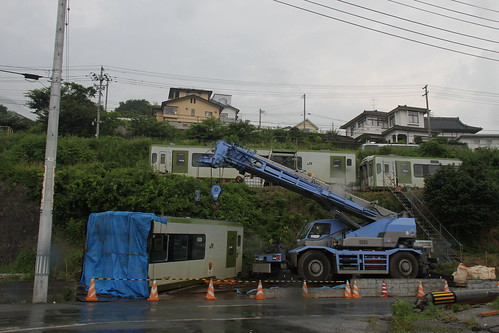building: (335, 102, 499, 146), (152, 88, 235, 133)
crane: (227, 153, 432, 281)
sky: (1, 1, 494, 111)
traffic cone: (81, 278, 102, 304), (141, 275, 162, 301), (200, 276, 217, 300), (252, 277, 269, 301), (295, 278, 312, 302), (377, 277, 394, 301), (411, 276, 428, 300), (350, 280, 361, 299), (342, 278, 352, 298)
train: (120, 213, 246, 293), (144, 145, 358, 180), (360, 155, 465, 190)
tree: (421, 146, 499, 252), (33, 82, 109, 140)
